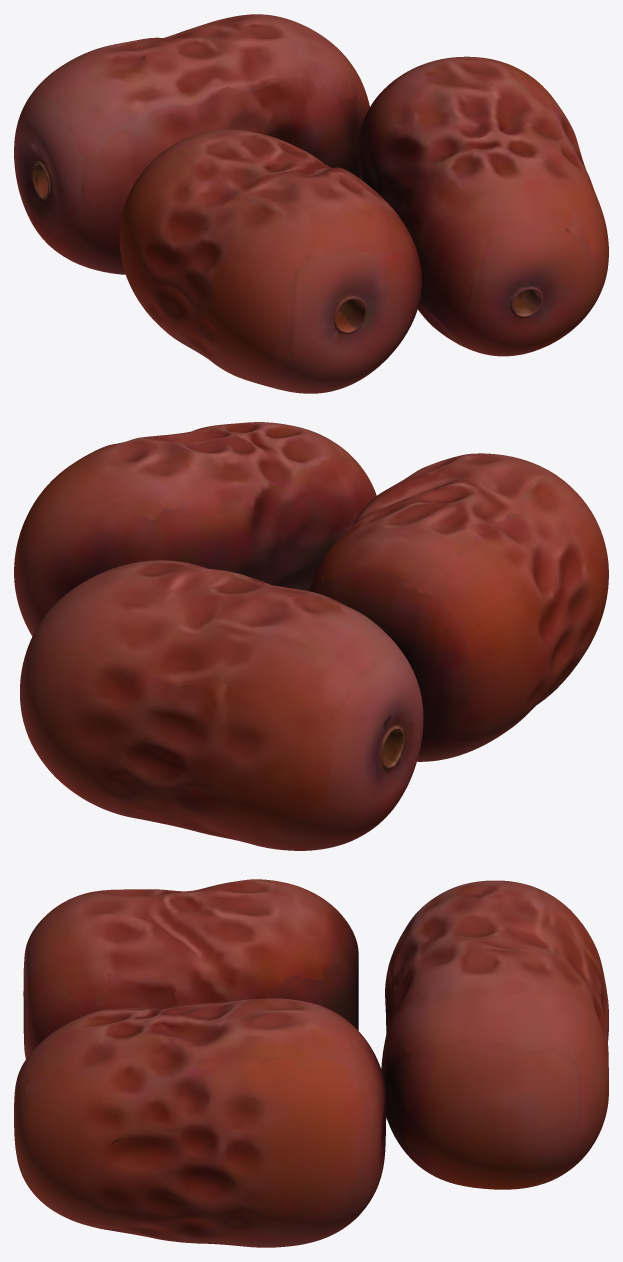
The model's file is tool-hongzao.glb.
3 renders of one model, top to bottom at view 1: azimuth 30°, elevation 25°; view 2: azimuth 150°, elevation 25°; view 3: azimuth 270°, elevation 25°, orthographic. The views are drawn at different scales.
Parts seen in each view (by area): view 1: node_0; view 2: node_0; view 3: node_0.
Part boxes in pixels (bbox=[...]): node_0: bbox=[14, 14, 608, 393]; node_0: bbox=[14, 422, 608, 850]; node_0: bbox=[14, 879, 608, 1247].
Bounding box in the file's own units: 0.9059 × 0.4236 × 1.01.
1 material, 1 textured.
